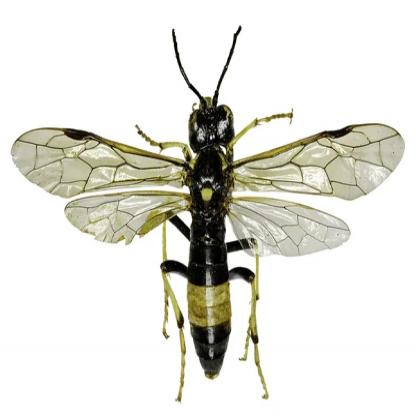sawfly: (7, 24, 406, 401)
